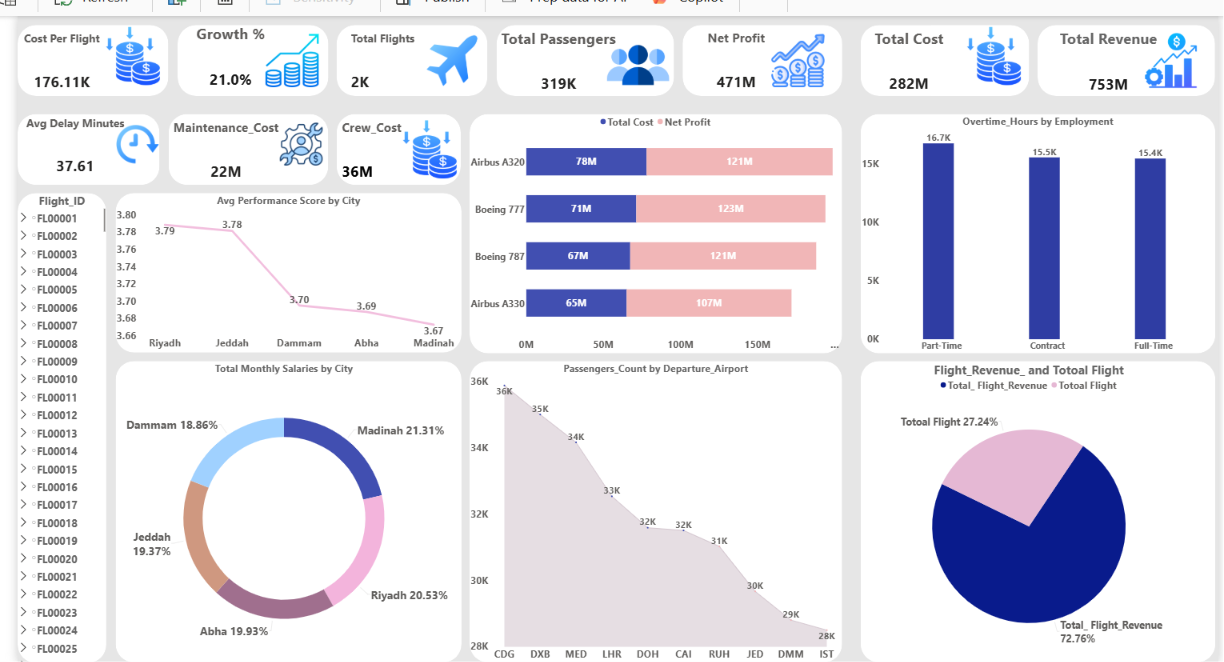

What the dashboard file says about the page in this screenshot:
{"tool":"powerbi","page":{"name":"Page 1","canvas":[6500,3500],"ordinal":0},"visuals":[{"type":"shape","box":[5520,48,960,384],"z":0},{"type":"cardVisual","fields":{"Data":["Riyadh_Air_Flights.Total Revenue"]},"box":[5520,48,768,384],"z":1000},{"type":"shape","box":[4560,48,912,384],"z":2000},{"type":"shape","box":[2592,48,960,384],"z":3000},{"type":"cardVisual","fields":{"Data":["Riyadh_Air_Flights.Total Passengers"]},"box":[2544,0,768,480],"z":4000},{"type":"shape","box":[4560,528,1920,1296],"z":5000},{"type":"shape","box":[0,4128,1824,864],"z":6000},{"type":"shape","box":[960,3648,1824,864],"z":7000},{"type":"shape","box":[384,3936,1824,864],"z":8000},{"type":"shape","box":[192,4128,1824,864],"z":9000},{"type":"shape","box":[816,528,864,384],"z":10000},{"type":"shape","box":[3600,48,864,384],"z":11000},{"type":"cardVisual","fields":{"Data":["Riyadh_Air_Flights.Total Cost"]},"box":[4464,0,720,480],"z":12000},{"type":"cardVisual","fields":{"Data":["Riyadh_Air_Flights.Net Profit"]},"box":[3456,0,864,480],"z":13000},{"type":"shape","box":[2448,1868,2016,1632],"z":14000},{"type":"shape","box":[4560,1868,1920,1632],"z":15000},{"type":"shape","box":[2448,528,2016,1296],"z":16000},{"type":"areaChart","title":" Passengers_Count by Departure_Airport","fields":{"Category":["Riyadh_Air_Flights.Departure_Airport"],"Y":["Sum(Riyadh_Air_Flights.Passengers_Count)"]},"box":[2448,1868,2016,1632],"z":17000},{"type":"barChart","fields":{"Category":["Riyadh_Air_Flights.Aircraft_Model"],"Y":["Riyadh_Air_Flights.Total Cost","Riyadh_Air_Flights.Net Profit"]},"box":[2448,528,2016,1296],"z":19000},{"type":"columnChart","title":" Overtime_Hours by Employment","fields":{"Category":["Riyadh_Air_Employee.Employment_Type"],"Y":["Sum(Riyadh_Air_Employee.Overtime_Hours)"]},"box":[4560,528,1920,1296],"z":20000},{"type":"cardVisual","fields":{"Data":["Sum(Riyadh_Air_Flights.Maintenance_Cost_SAR)"]},"box":[768,528,720,384],"z":21000},{"type":"shape","box":[0,956,480,2544],"z":22000},{"type":"shape","box":[1728,48,816,384],"z":23000},{"type":"shape","box":[1728,528,672,384],"z":24000},{"type":"cardVisual","fields":{"Data":["Sum(Riyadh_Air_Flights.Crew_Cost_SAR)"]},"box":[1728,480,768,480],"z":25000},{"type":"image","box":[6000,48,480,384],"z":28000},{"type":"image","box":[4992,48,576,336],"z":29000},{"type":"image","box":[3984,96,480,288],"z":30000},{"type":"image","box":[3168,96,384,336],"z":31000},{"type":"image","box":[1392,576,288,240],"z":33000},{"type":"shape","box":[528,1868,1872,1632],"z":33002},{"type":"shape","box":[864,48,816,384],"z":33003},{"type":"cardVisual","fields":{"Data":["Riyadh_Air_Flights.YoY RevenueE Growth %"]},"box":[768,1104,576,384],"z":33004},{"type":"image","box":[1296,96,384,288],"z":33005},{"type":"cardVisual","fields":{"Data":["Riyadh_Air_Flights.Total Flights"]},"box":[1776,48,672,384],"z":33006},{"type":"image","box":[2160,96,384,288],"z":33007},{"type":"shape","box":[0,528,768,384],"z":33008},{"type":"shape","box":[0,48,816,384],"z":33009},{"type":"cardVisual","fields":{"Data":["Riyadh_Air_Flights.Cost Per Flight"]},"box":[0,48,480,384],"z":33010},{"type":"cardVisual","fields":{"Data":["Riyadh_Air_Flights.Avg Delay Minutes"]},"box":[0,528,624,336],"z":33011},{"type":"image","box":[432,576,432,240],"z":33013},{"type":"image","box":[336,48,576,336],"z":33014},{"type":"image","box":[2064,528,336,384],"z":33015},{"type":"shape","box":[528,960,1872,864],"z":33016},{"type":"listSlicer","fields":{"Values":["Riyadh_Air_Flights.Flight_ID","Riyadh_Air_Flights.Flight_Status","Riyadh_Air_Flights.Departure_Airport"]},"box":[0,956,480,2544],"z":33018},{"type":"donutChart","fields":{"Category":["Riyadh_Air_Employee.City"],"Y":["Riyadh_Air_Employee.Total Monthly Salaries"]},"box":[480,1868,1920,1632],"z":33019},{"type":"pieChart","title":" Flight_Revenue_ and Totoal Flight","fields":{"Y":["Sum(Riyadh_Air_Flights.Flight_Revenue_SAR)","Riyadh_Air_Flights.Totoal Flight"]},"box":[4512,1868,1920,1632],"z":33020},{"type":"lineChart","fields":{"Category":["Riyadh_Air_Employee.City"],"Y":["Riyadh_Air_Employee.Avg Performance Score"]},"box":[528,960,1872,864],"z":33021},{"type":"cardVisual","fields":{"Data":["Riyadh_Air_Flights.Growth %"]},"box":[864,0,576,432],"z":33022}]}

Visuals, with their boxes on the page's 6500x3500 design canvas (x1, y1, x2, y2). These are canvas units, not pixel positions in the 1224x662 screenshot, which may show the page scaled, cropped or inside an application window:
shape: left=5520, top=48, right=6480, bottom=432
cardVisual - Riyadh_Air_Flights.Total Revenue: left=5520, top=48, right=6288, bottom=432
shape: left=4560, top=48, right=5472, bottom=432
shape: left=2592, top=48, right=3552, bottom=432
cardVisual - Riyadh_Air_Flights.Total Passengers: left=2544, top=0, right=3312, bottom=480
shape: left=4560, top=528, right=6480, bottom=1824
shape: left=0, top=4128, right=1824, bottom=4992
shape: left=960, top=3648, right=2784, bottom=4512
shape: left=384, top=3936, right=2208, bottom=4800
shape: left=192, top=4128, right=2016, bottom=4992
shape: left=816, top=528, right=1680, bottom=912
shape: left=3600, top=48, right=4464, bottom=432
cardVisual - Riyadh_Air_Flights.Total Cost: left=4464, top=0, right=5184, bottom=480
cardVisual - Riyadh_Air_Flights.Net Profit: left=3456, top=0, right=4320, bottom=480
shape: left=2448, top=1868, right=4464, bottom=3500
shape: left=4560, top=1868, right=6480, bottom=3500
shape: left=2448, top=528, right=4464, bottom=1824
" Passengers_Count by Departure_Airport" areaChart: left=2448, top=1868, right=4464, bottom=3500
barChart - Riyadh_Air_Flights.Aircraft_Model x Riyadh_Air_Flights.Total Cost: left=2448, top=528, right=4464, bottom=1824
" Overtime_Hours by Employment" columnChart: left=4560, top=528, right=6480, bottom=1824
cardVisual - Sum(Riyadh_Air_Flights.Maintenance_Cost_SAR): left=768, top=528, right=1488, bottom=912
shape: left=0, top=956, right=480, bottom=3500
shape: left=1728, top=48, right=2544, bottom=432
shape: left=1728, top=528, right=2400, bottom=912
cardVisual - Sum(Riyadh_Air_Flights.Crew_Cost_SAR): left=1728, top=480, right=2496, bottom=960
image: left=6000, top=48, right=6480, bottom=432
image: left=4992, top=48, right=5568, bottom=384
image: left=3984, top=96, right=4464, bottom=384
image: left=3168, top=96, right=3552, bottom=432
image: left=1392, top=576, right=1680, bottom=816
shape: left=528, top=1868, right=2400, bottom=3500
shape: left=864, top=48, right=1680, bottom=432
cardVisual - Riyadh_Air_Flights.YoY RevenueE Growth %: left=768, top=1104, right=1344, bottom=1488
image: left=1296, top=96, right=1680, bottom=384
cardVisual - Riyadh_Air_Flights.Total Flights: left=1776, top=48, right=2448, bottom=432
image: left=2160, top=96, right=2544, bottom=384
shape: left=0, top=528, right=768, bottom=912
shape: left=0, top=48, right=816, bottom=432
cardVisual - Riyadh_Air_Flights.Cost Per Flight: left=0, top=48, right=480, bottom=432
cardVisual - Riyadh_Air_Flights.Avg Delay Minutes: left=0, top=528, right=624, bottom=864
image: left=432, top=576, right=864, bottom=816
image: left=336, top=48, right=912, bottom=384
image: left=2064, top=528, right=2400, bottom=912
shape: left=528, top=960, right=2400, bottom=1824
listSlicer - Riyadh_Air_Flights.Flight_ID x Riyadh_Air_Flights.Flight_Status: left=0, top=956, right=480, bottom=3500
donutChart - Riyadh_Air_Employee.City x Riyadh_Air_Employee.Total Monthly Salaries: left=480, top=1868, right=2400, bottom=3500
" Flight_Revenue_ and Totoal Flight" pieChart: left=4512, top=1868, right=6432, bottom=3500
lineChart - Riyadh_Air_Employee.City x Riyadh_Air_Employee.Avg Performance Score: left=528, top=960, right=2400, bottom=1824
cardVisual - Riyadh_Air_Flights.Growth %: left=864, top=0, right=1440, bottom=432
